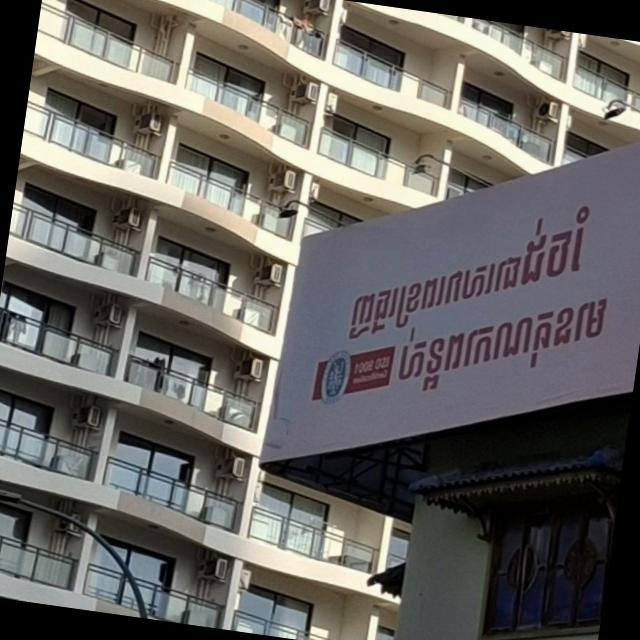Yolov11_80vkh: (382, 281, 632, 406), (333, 242, 528, 346), (516, 185, 625, 297)
